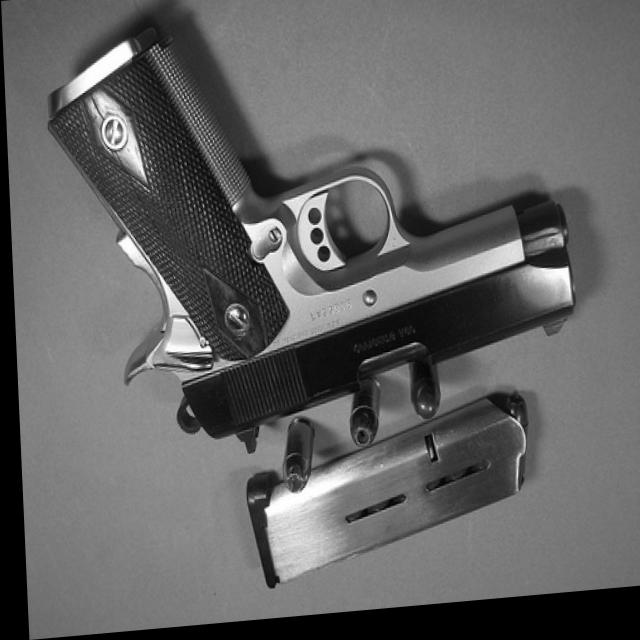handgun: (37, 7, 576, 474)
